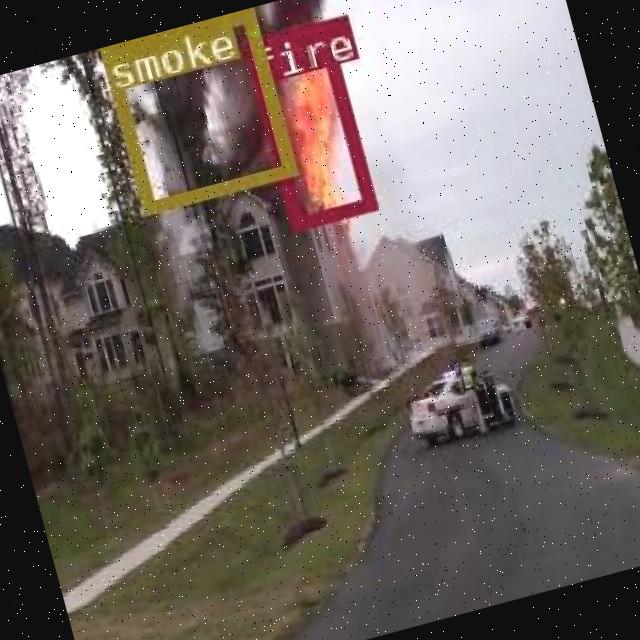fire: (238, 18, 374, 230)
smoke: (99, 8, 292, 213)
